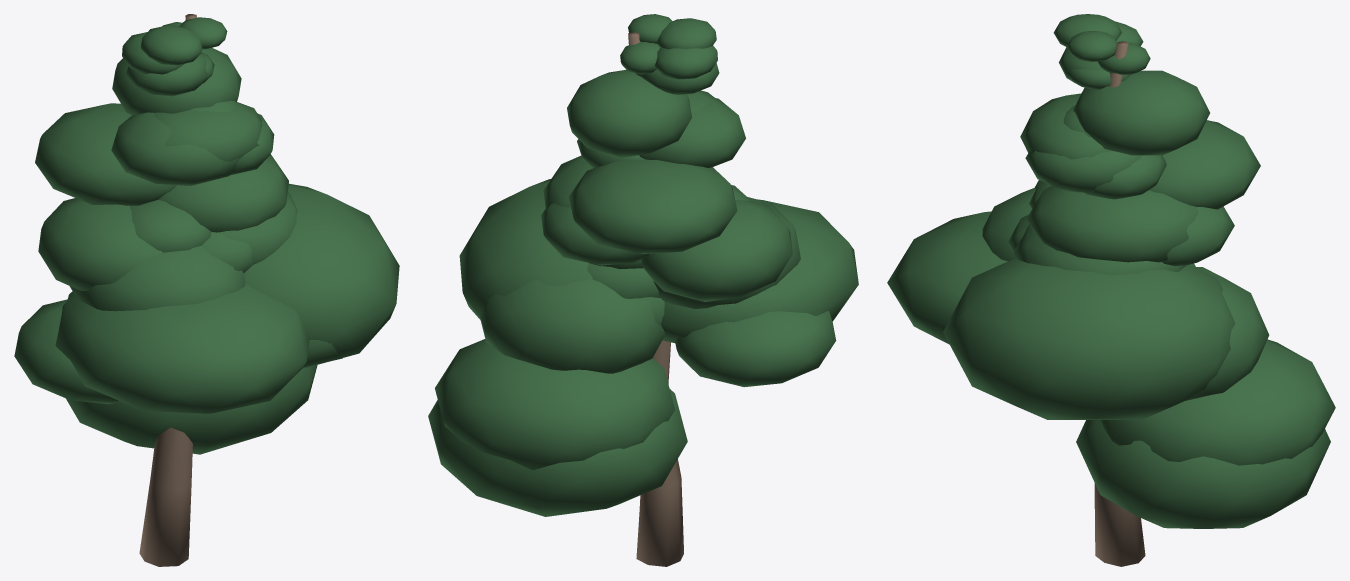
File: tree_pine.glb
The picture shows the model from 3 angles, left to right: view 1: azimuth 30°, elevation 25°; view 2: azimuth 150°, elevation 25°; view 3: azimuth 270°, elevation 25°; orthographic projection. The views are drawn at different scales.
Visible parts, largest first — view 1: tree_pine; view 2: tree_pine; view 3: tree_pine.
Part boxes in pixels (x1,y1,x2,y2): tree_pine: (14, 14, 399, 566); tree_pine: (428, 14, 858, 566); tree_pine: (887, 14, 1335, 566).
Bounding box in the file's own units: 2.33 × 3.45 × 2.63.
